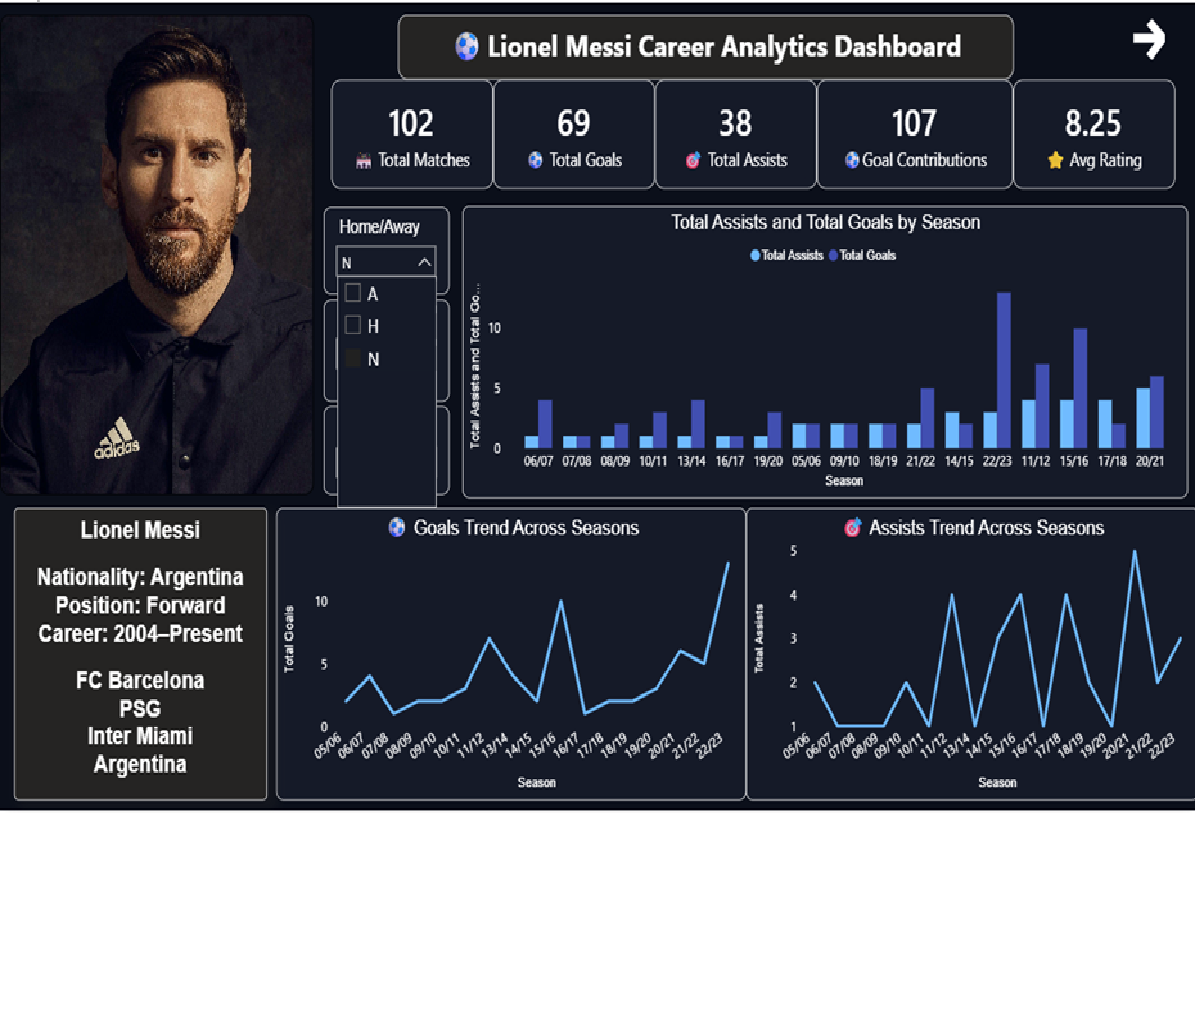

What the dashboard file says about the page in this screenshot:
{"tool":"powerbi","page":{"name":"Page 1","canvas":[1280,720],"ordinal":0},"visuals":[{"type":"cardVisual","fields":{"Data":["leomessi_matches.Total Matches"]},"box":[354,68.6,172.9,97.4],"z":0},{"type":"lineChart","title":"⚽ Goals Trend Across Seasons","fields":{"Category":["leomessi_matches.Season"],"Y":["leomessi_matches.Total Goals"]},"box":[295,450.1,502.2,260.7],"z":1000},{"type":"lineChart","title":"🎯 Assists Trend Across Seasons","fields":{"Category":["leomessi_matches.Season"],"Y":["leomessi_matches.Total Assists"]},"box":[797.4,450.1,482.9,260.8],"z":2000},{"type":"clusteredColumnChart","fields":{"Category":["leomessi_matches.Season"],"Y":["leomessi_matches.Total Assists","leomessi_matches.Total Goals"]},"box":[494,181.1,775.3,260.7],"z":3000},{"type":"slicer","fields":{"Values":["leomessi_matches.Season"]},"box":[345.8,265.3,134.1,90.9],"z":4000},{"type":"slicer","fields":{"Values":["leomessi_matches.Competition"]},"box":[345.8,359.5,134.5,79.6],"z":5000},{"type":"slicer","fields":{"Values":["leomessi_matches.Home/Away"]},"box":[345.8,181.8,134.1,77.5],"z":6000},{"type":"textbox","box":[425.4,11,657.3,57.6],"z":7000},{"type":"image","box":[0,11,334.8,428.1],"z":8000},{"type":"cardVisual","fields":{"Data":["leomessi_matches.Total Goals"]},"box":[526.9,68.6,172.9,97.4],"z":9000},{"type":"cardVisual","fields":{"Data":["leomessi_matches.Total Assists"]},"box":[699.8,68.6,172.9,97.4],"z":10000},{"type":"cardVisual","fields":{"Data":["leomessi_matches.Goal Contributions"]},"box":[872.7,68.6,209.9,97.4],"z":11000},{"type":"cardVisual","fields":{"Data":["leomessi_matches.Avg Rating"]},"box":[1082.7,68.6,172.9,97.4],"z":12000},{"type":"textbox","box":[15.1,450.1,270.3,260.7],"z":13000},{"type":"actionButton","box":[1204.8,11,54.9,43.9],"z":14000}]}

Visuals, with their boxes on the page's 1280x720 design canvas (x1, y1, x2, y2). These are canvas units, not pixel positions in the 1198x1011 screenshot, which may show the page scaled, cropped or inside an application window:
cardVisual - leomessi_matches.Total Matches: 354 69 527 166
"⚽ Goals Trend Across Seasons" lineChart: 295 450 797 711
"🎯 Assists Trend Across Seasons" lineChart: 797 450 1280 711
clusteredColumnChart - leomessi_matches.Season x leomessi_matches.Total Assists: 494 181 1269 442
slicer - leomessi_matches.Season: 346 265 480 356
slicer - leomessi_matches.Competition: 346 360 480 439
slicer - leomessi_matches.Home/Away: 346 182 480 259
textbox: 425 11 1083 69
image: 0 11 335 439
cardVisual - leomessi_matches.Total Goals: 527 69 700 166
cardVisual - leomessi_matches.Total Assists: 700 69 873 166
cardVisual - leomessi_matches.Goal Contributions: 873 69 1083 166
cardVisual - leomessi_matches.Avg Rating: 1083 69 1256 166
textbox: 15 450 285 711
actionButton: 1205 11 1260 55
